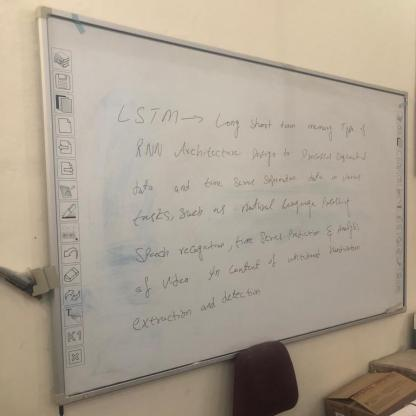Handwritten text: (125, 230, 375, 305), (125, 206, 371, 273), (110, 93, 379, 153), (122, 181, 363, 235), (126, 135, 381, 179), (124, 270, 271, 346), (128, 166, 371, 200)
Whiteboard: (28, 3, 412, 413)
